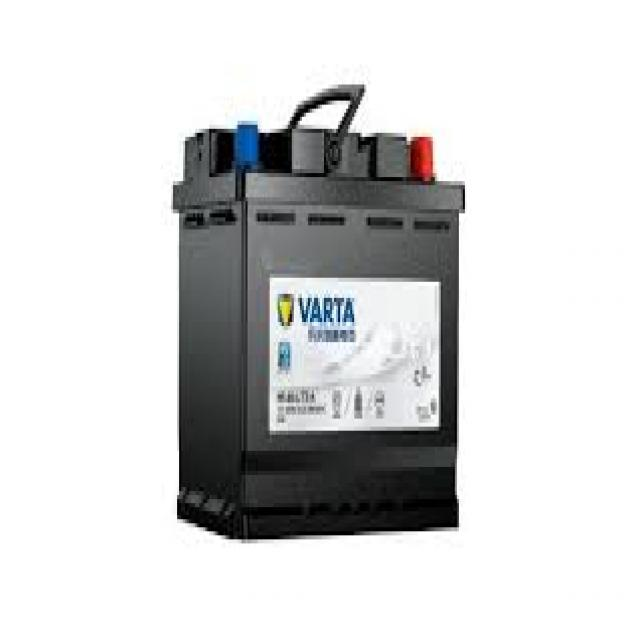non-organic waste: (173, 74, 466, 539)
